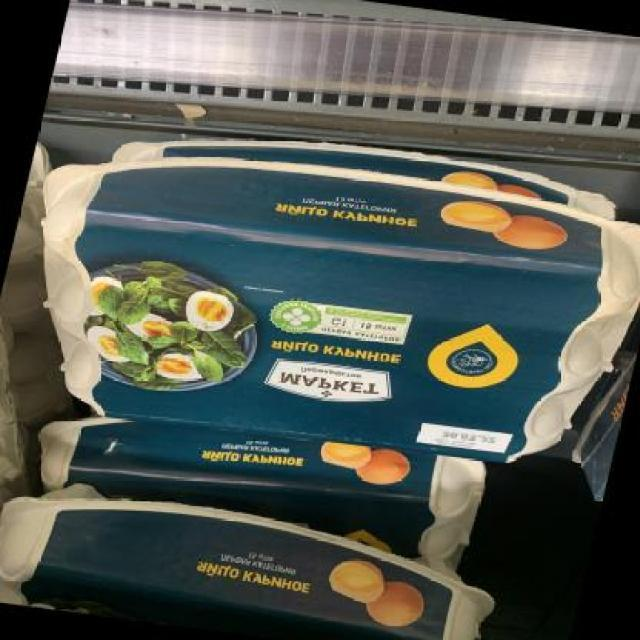Egg: (1, 139, 640, 487), (1, 479, 511, 640), (28, 402, 495, 554)
